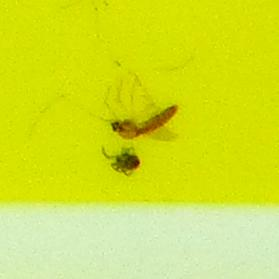Araneae: (100, 144, 142, 179)
Nematocera: (110, 100, 179, 141)
